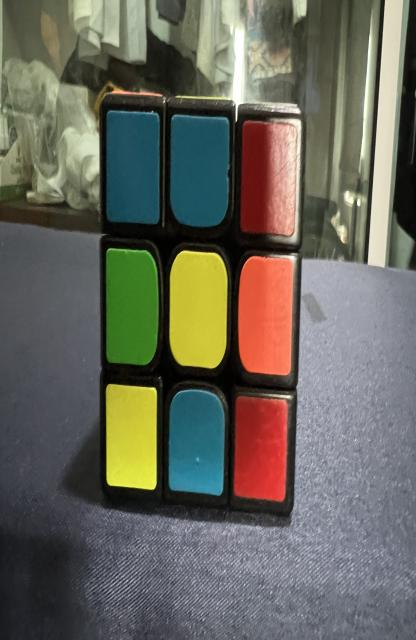Blue: (170, 115, 230, 227), (168, 388, 225, 497), (106, 110, 160, 225)
Green: (106, 248, 159, 365)
Orange: (238, 257, 293, 375)
Red: (240, 121, 297, 238), (233, 397, 288, 502)
Yellow: (169, 250, 228, 368), (106, 383, 158, 490)
